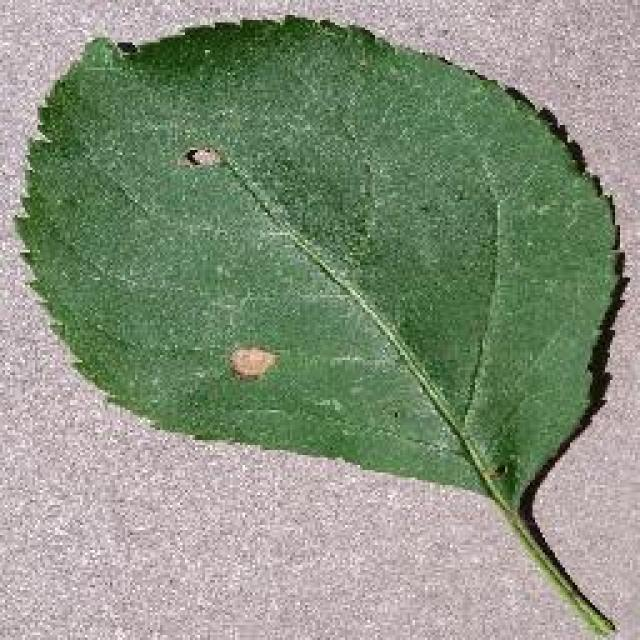apple healthy: (10, 12, 630, 638)
